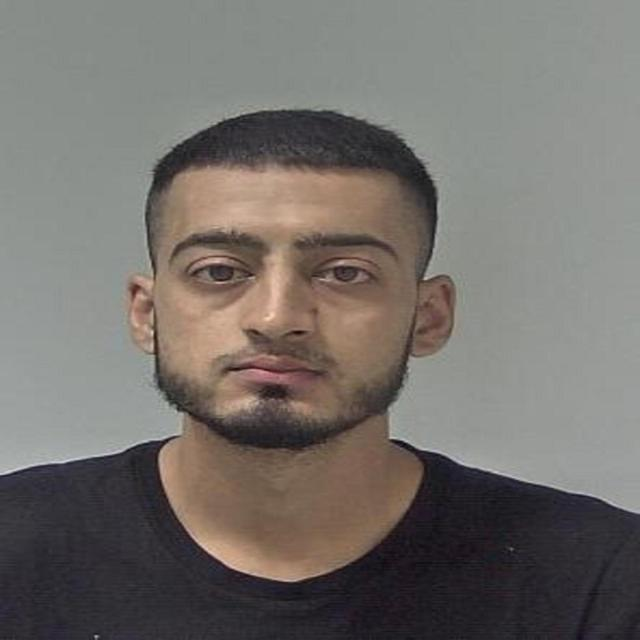mobile_phonerotation: (1, 106, 638, 638)
